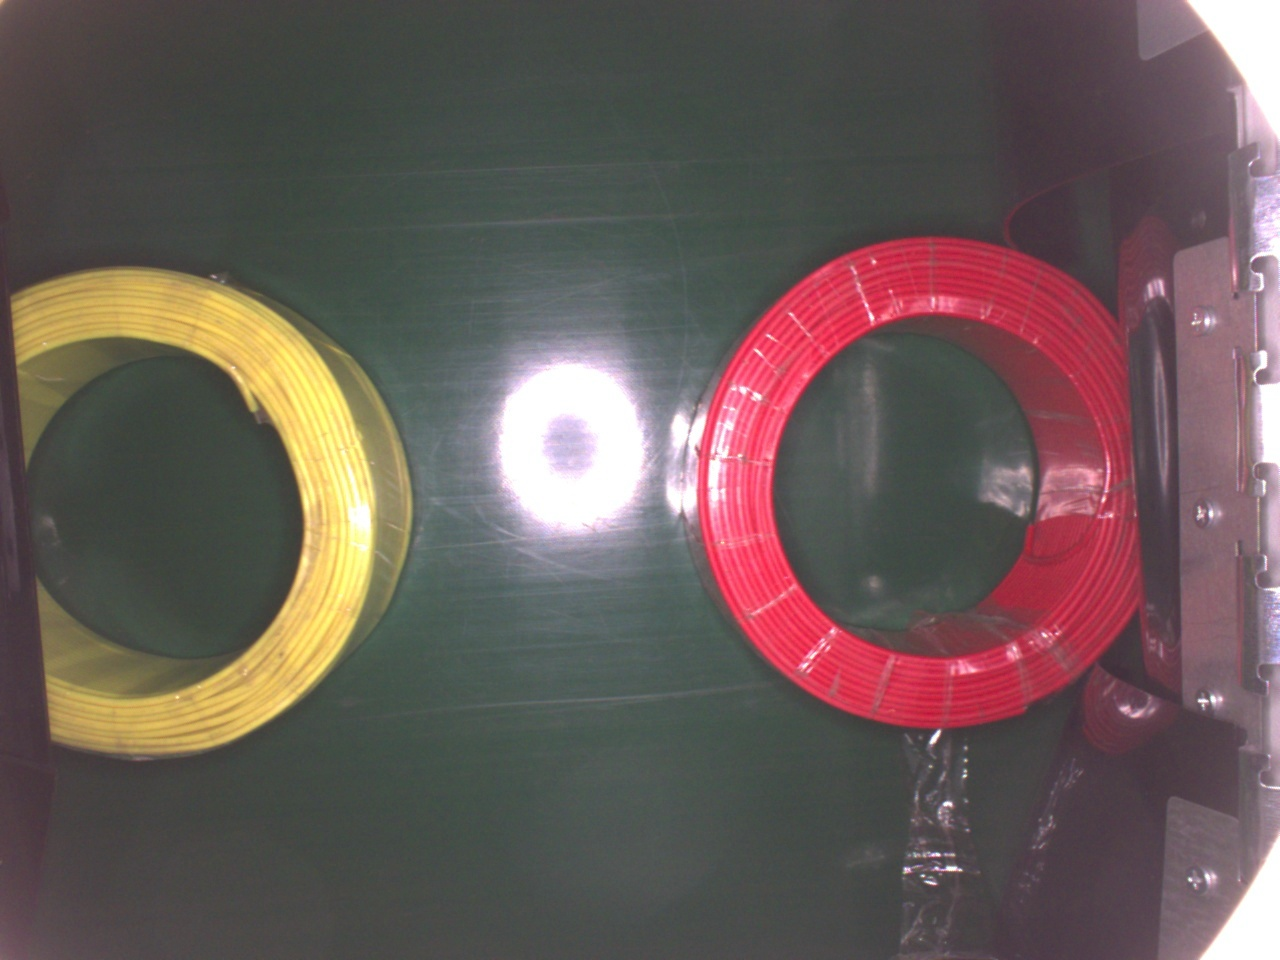red: (683, 233, 1140, 728)
yellow: (9, 266, 412, 771)
